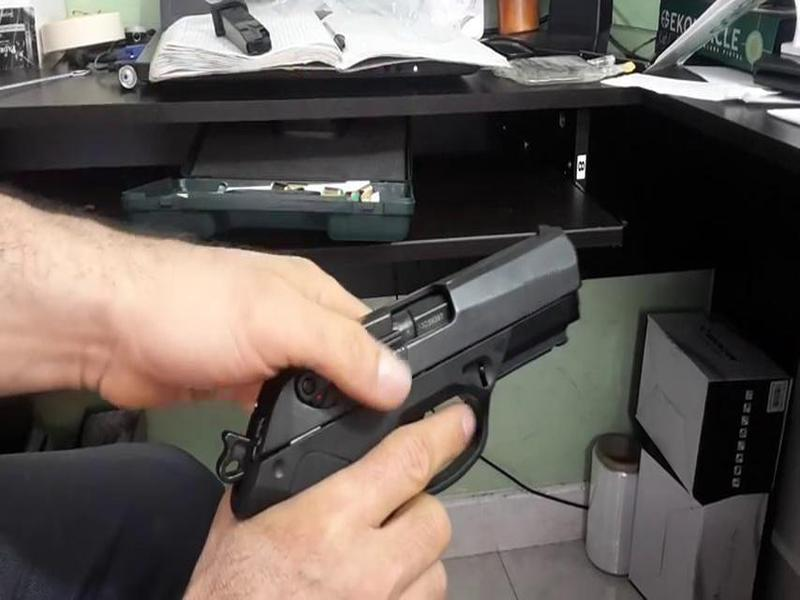Pistola: (211, 168, 610, 530)
